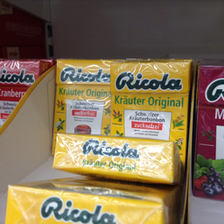candy: (109, 62, 185, 171), (55, 59, 113, 150), (192, 63, 224, 191), (1, 61, 41, 158)
